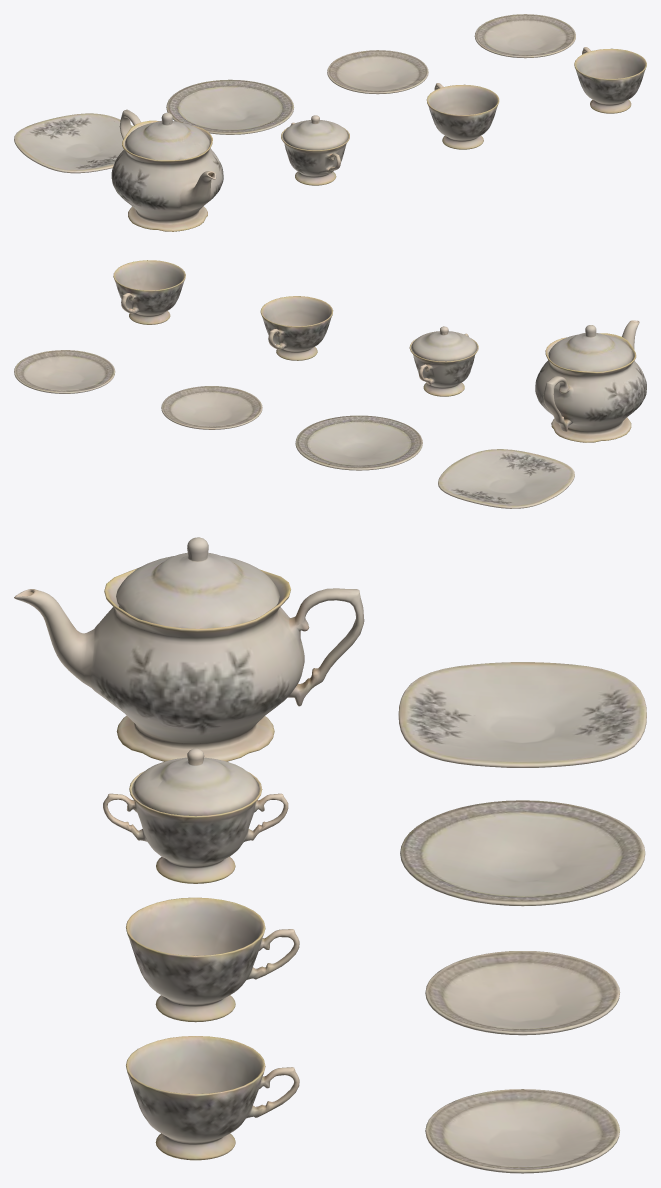
File: tea_set_01-SFydXUrH.glb
3 views of the same model, one above another, from view 1: azimuth 30°, elevation 25°; view 2: azimuth 150°, elevation 25°; view 3: azimuth 270°, elevation 25° (orthographic). The views are drawn at different scales.
Parts seen in each view (by area): view 1: tea_set_01_plate_large_square_01; view 2: tea_set_01_plate_large_square_01; view 3: tea_set_01_plate_large_square_01.
Boxes of the visible parts, bbox=[...] form: tea_set_01_plate_large_square_01: bbox=[14, 14, 646, 231]; tea_set_01_plate_large_square_01: bbox=[14, 260, 646, 508]; tea_set_01_plate_large_square_01: bbox=[14, 537, 646, 1173].
Size of the model in its own units: 0.9185 by 0.1649 by 0.4839.
1 material, 1 textured.
